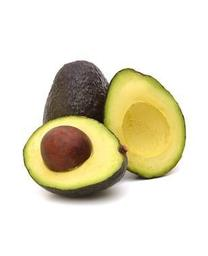avocado: (104, 68, 186, 180), (23, 115, 128, 197), (42, 59, 116, 149)
